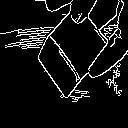cube: (35, 10, 110, 100)
